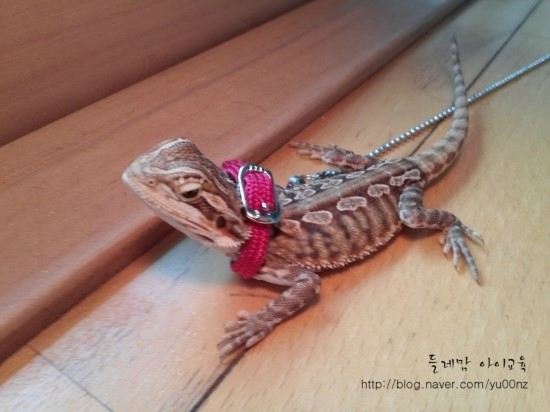bearded: (121, 33, 489, 362)
